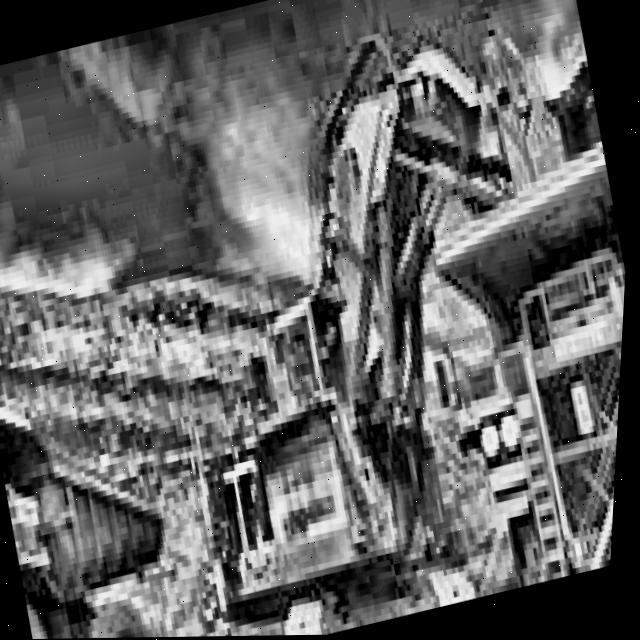dump_truck: (391, 113, 635, 597), (0, 315, 210, 640)
